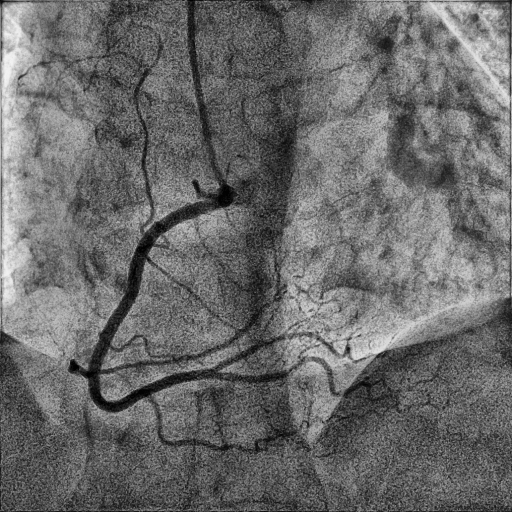pborca: (214, 333, 341, 369)
pda: (213, 356, 393, 402)
rca: (88, 193, 233, 414)
